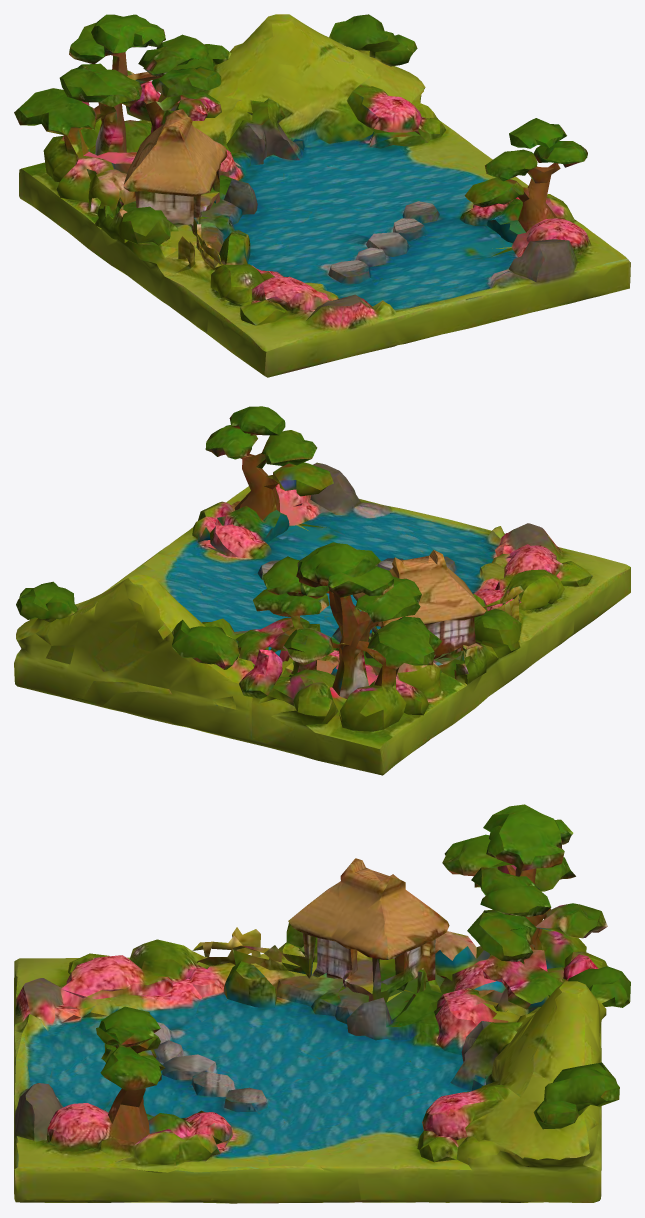
File: suizenji.glb
The picture shows the model from 3 angles, top to bottom: view 1: azimuth 30°, elevation 25°; view 2: azimuth 150°, elevation 25°; view 3: azimuth 270°, elevation 25°; orthographic projection. The views are drawn at different scales.
Parts seen in each view (by area): view 1: logan-textured.obj; view 2: logan-textured.obj; view 3: logan-textured.obj.
Boxes of the visible parts, x1,y1,x2,y2 form: logan-textured.obj: (14, 14, 630, 377); logan-textured.obj: (14, 406, 630, 775); logan-textured.obj: (14, 804, 630, 1203).
Bounding box in the file's own units: 0.89 × 0.3934 × 1.
1 material, 1 textured.
